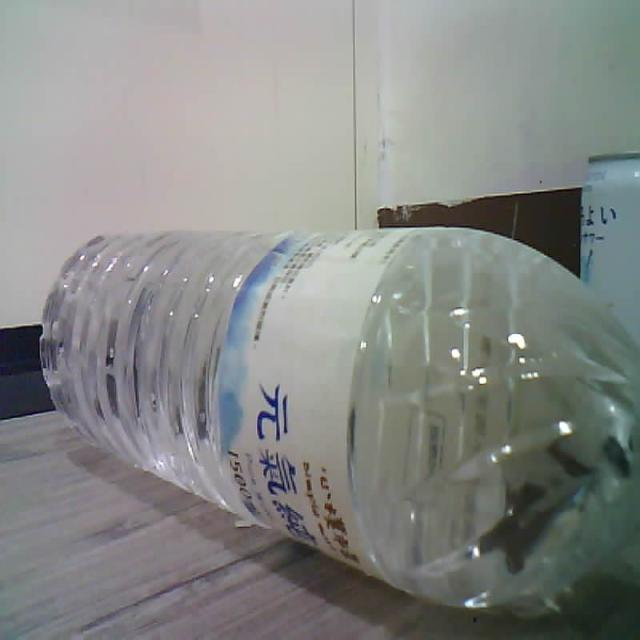bottle: (42, 227, 639, 611)
can: (581, 151, 639, 345)
